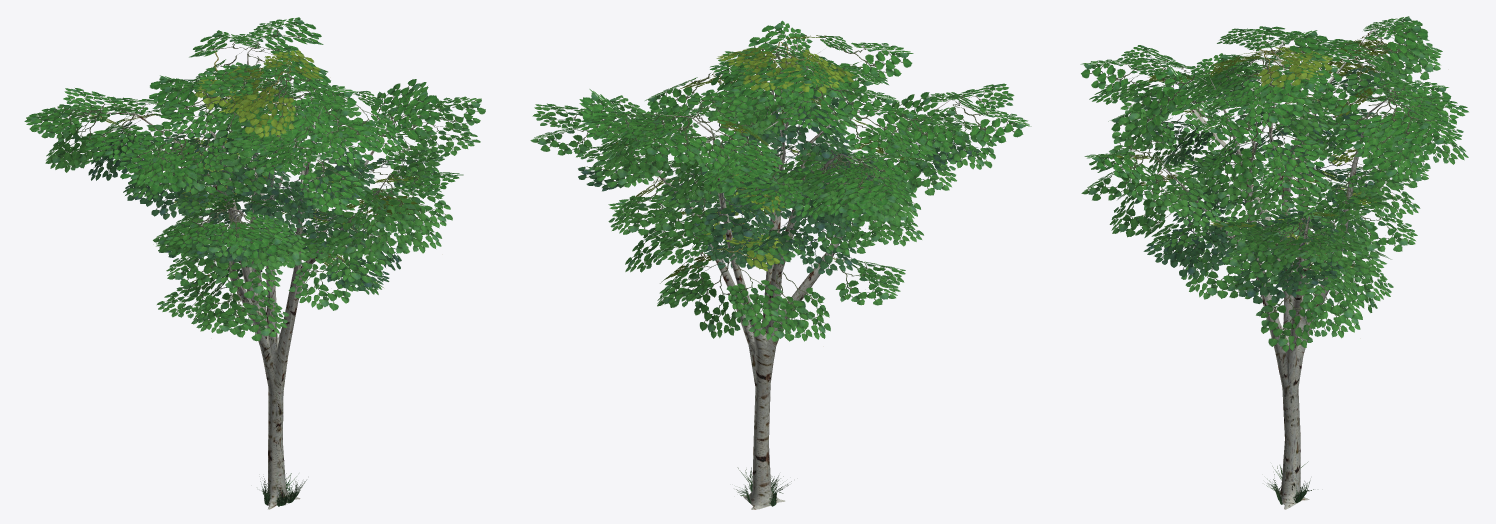
Rendered from tree.glb.
3 renders of one model, left to right at view 1: azimuth 30°, elevation 25°; view 2: azimuth 150°, elevation 25°; view 3: azimuth 270°, elevation 25°, orthographic. The views are drawn at different scales.
Parts seen in each view (by area): view 1: Tr-户外植物5A_01; view 2: Tr-户外植物5A_01; view 3: Tr-户外植物5A_01.
Boxes of the visible parts, x1=… form: Tr-户外植物5A_01: x1=24, y1=17, x2=485, y2=509; Tr-户外植物5A_01: x1=530, y1=20, x2=1031, y2=509; Tr-户外植物5A_01: x1=1080, y1=16, x2=1468, y2=509.
Bounding box in the file's own units: 7.34 × 7.36 × 6.14.
Materials: 3 (3 with a texture image).
